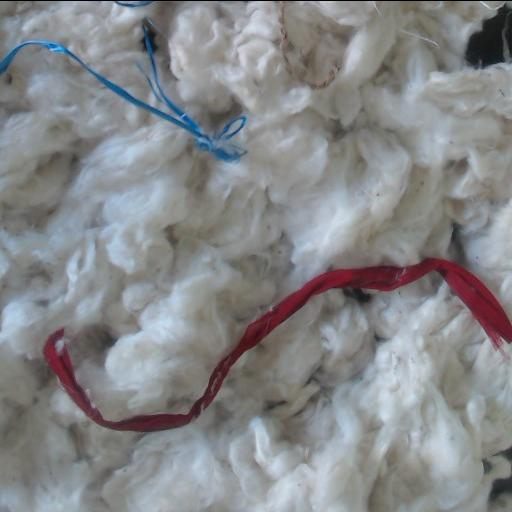cloth: (44, 258, 511, 431), (465, 6, 511, 67)
cotton: (0, 1, 511, 512)
jute: (276, 1, 340, 88)
thread: (0, 21, 246, 162), (113, 1, 154, 7)
